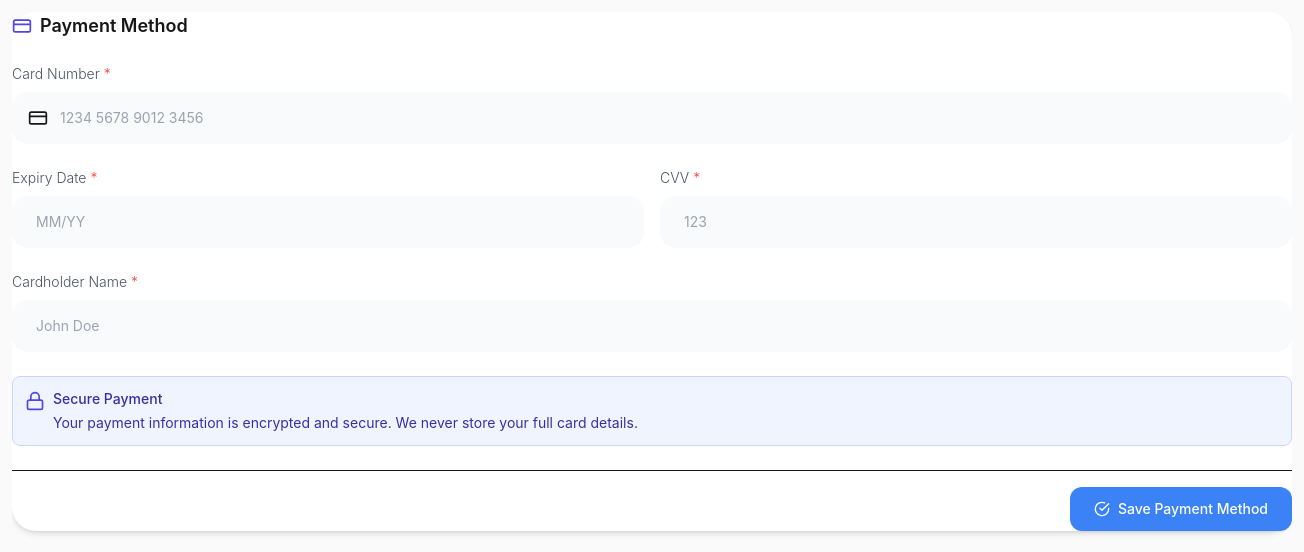
PaymentMethodForm Component › Input Formatting › formats card number with spaces
The image size is (1304, 552).
Step 1. Type "1234567890123456" into the field labelled "Card Number*" → (652, 118), box top-left (12, 92), bottom-right (1292, 144)
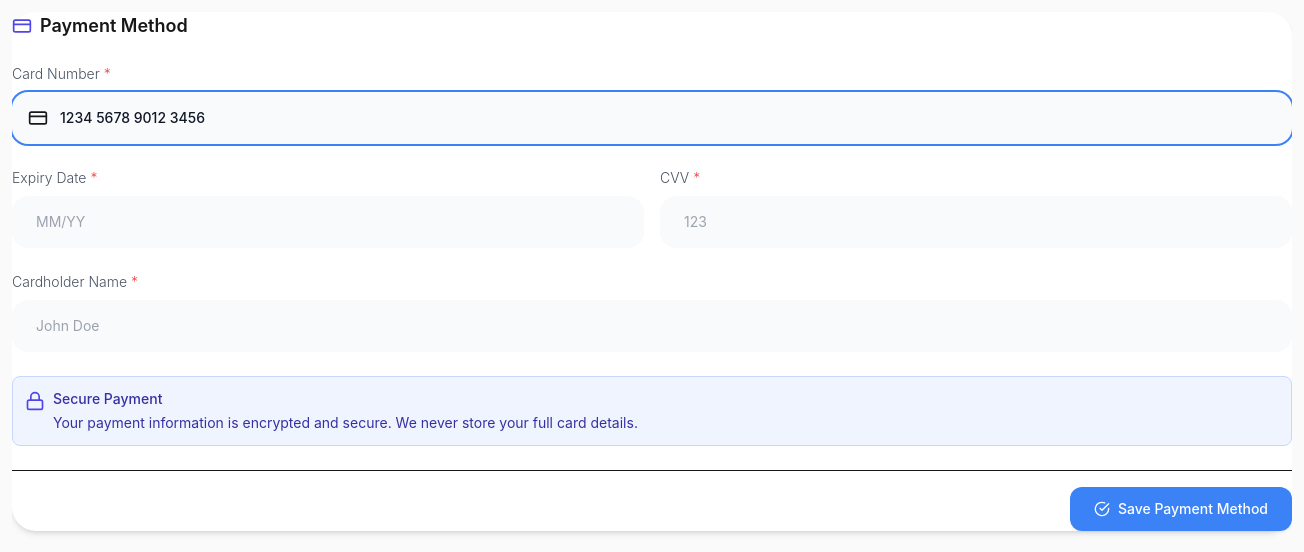
expect the field labelled "Card Number*" holds "1234 5678 9012 3456": met, box top-left (12, 92), bottom-right (1292, 144)
